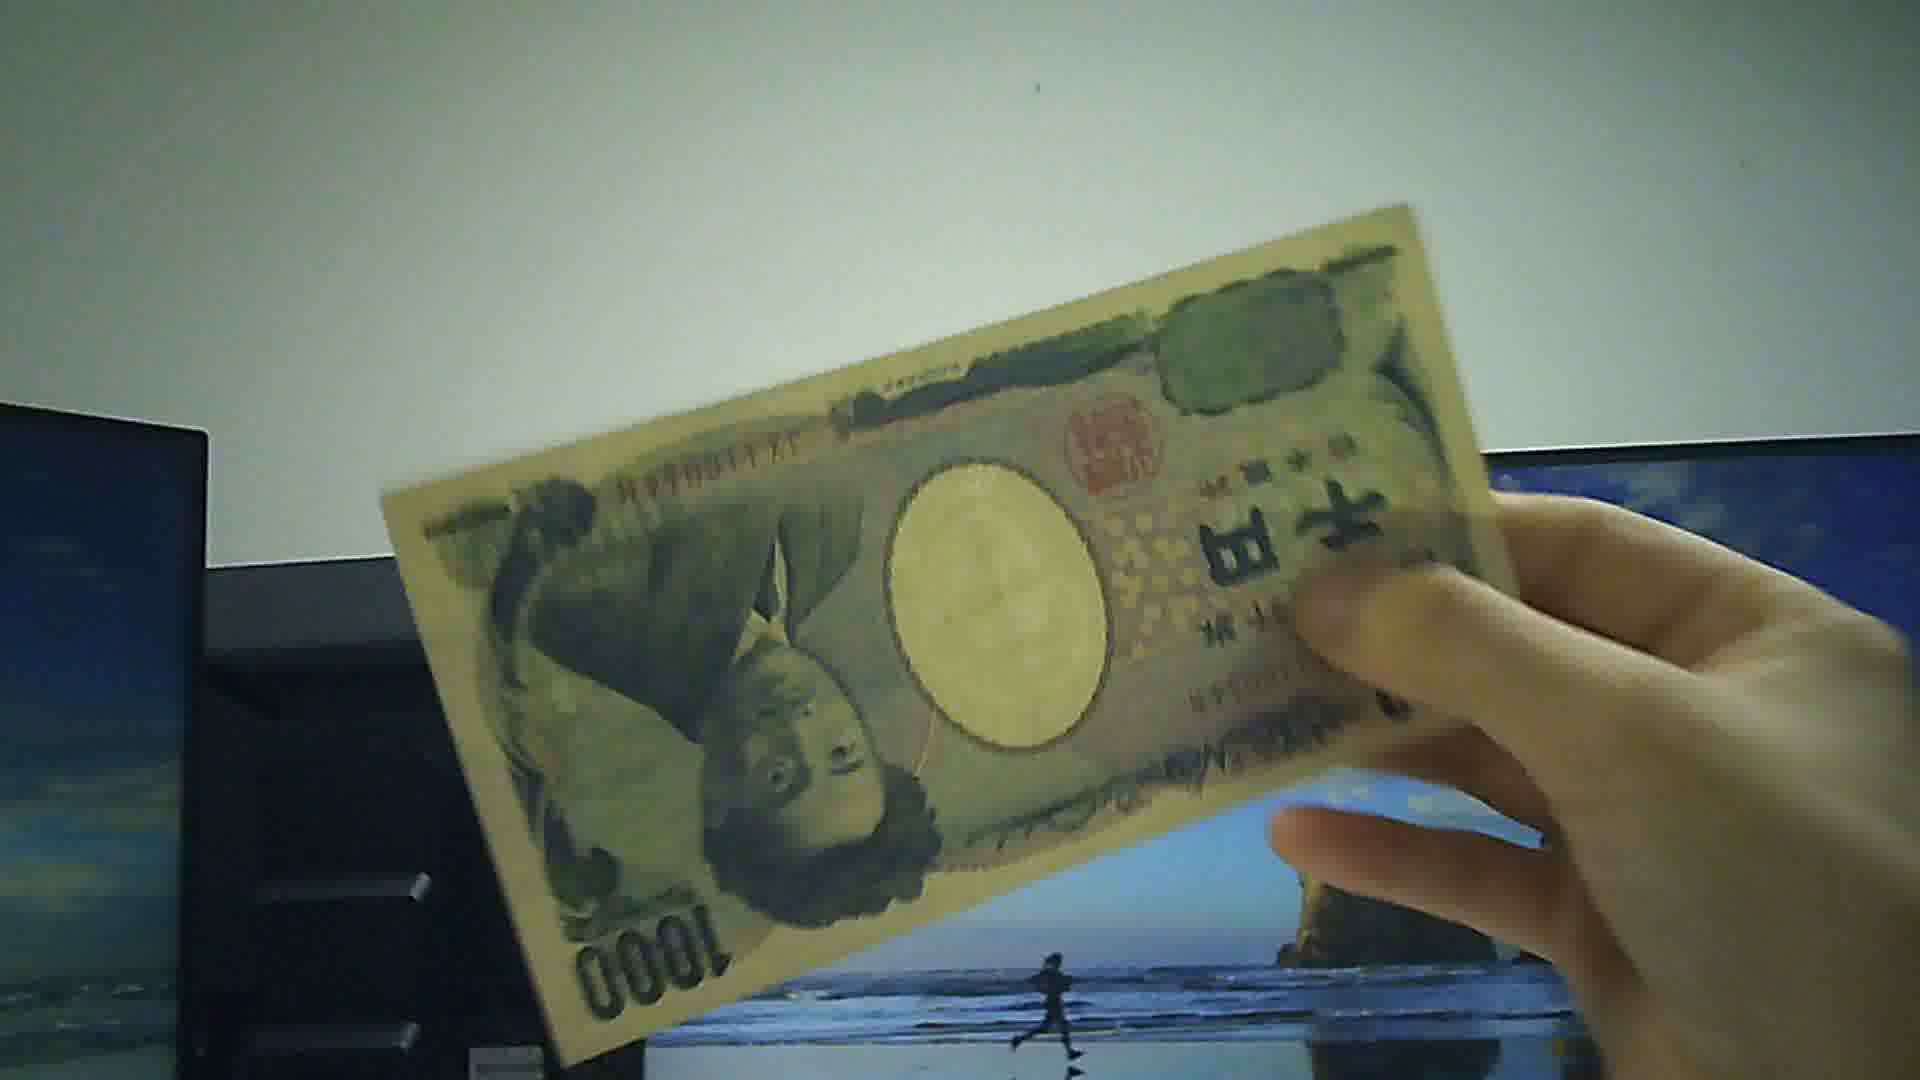1,000 Yen: (369, 204, 1502, 1079)
